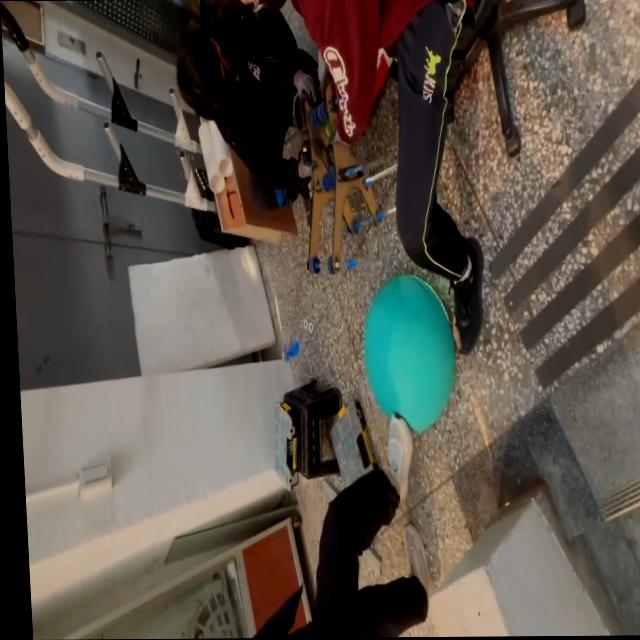ALGAE: (358, 272, 461, 434)
